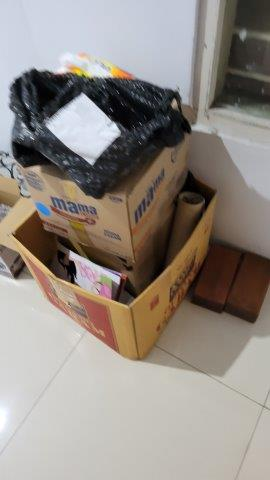kardus: (9, 164, 217, 363)
kertas: (41, 91, 120, 165)
